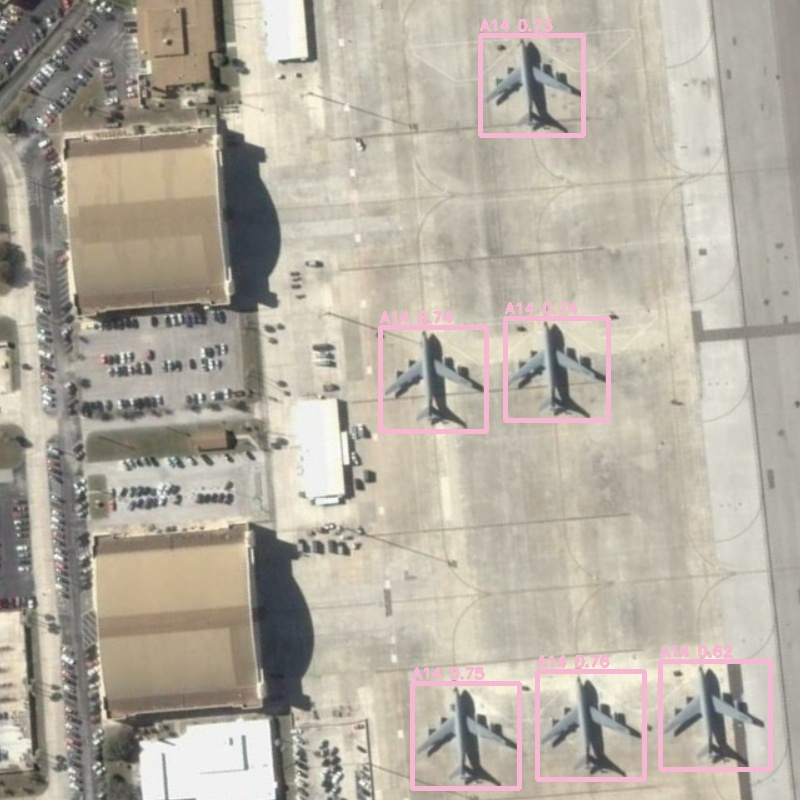A14: (660, 661, 770, 769), (537, 671, 644, 779), (412, 683, 519, 788), (380, 327, 486, 431), (505, 318, 608, 420), (480, 35, 583, 135)
